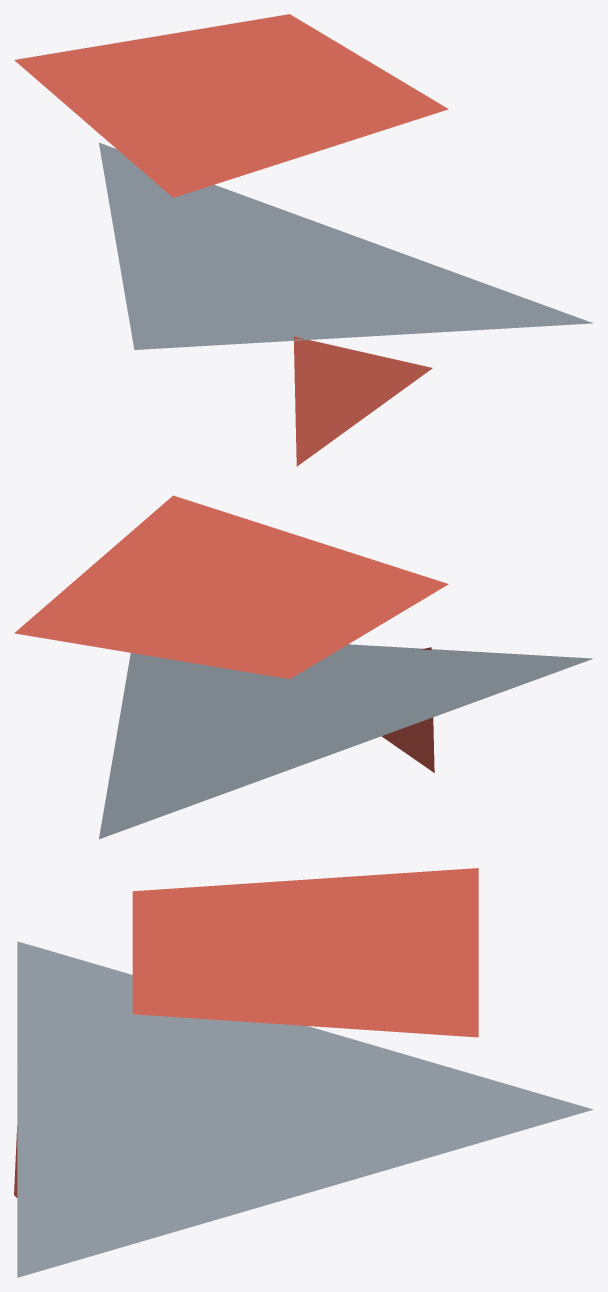
File: SU_Barracks_LOD2.glb
3 renders of one model, top to bottom at view 1: azimuth 30°, elevation 25°; view 2: azimuth 150°, elevation 25°; view 3: azimuth 270°, elevation 25°, orthographic. The views are drawn at different scales.
Visible parts, largest first — view 1: EntranceGate; view 2: EntranceGate; view 3: EntranceGate.
Boxes of the visible parts, <box> form: EntranceGate: <box>14,14,592,466</box>; EntranceGate: <box>14,495,592,839</box>; EntranceGate: <box>14,868,593,1277</box>.
Bounding box in the file's own units: 600 × 333 × 603.
